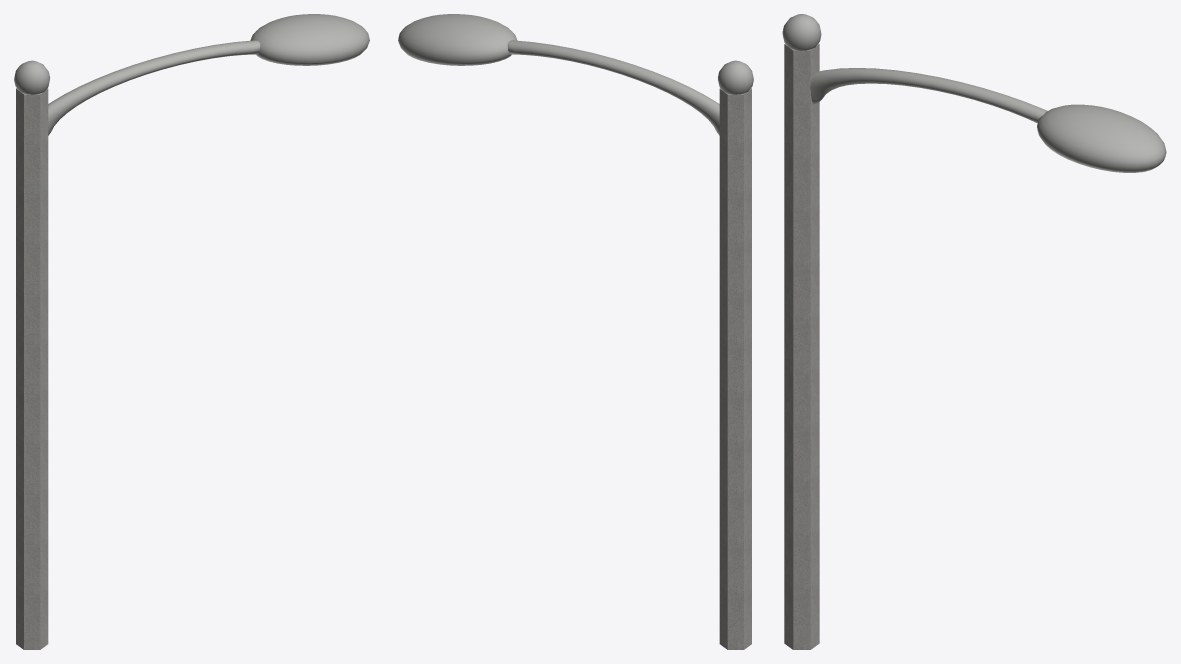
Rendered from Lampara1.FBX.
3 views of the same model, side by side, from view 1: azimuth 30°, elevation 25°; view 2: azimuth 150°, elevation 25°; view 3: azimuth 330°, elevation 25° (orthographic). The views are drawn at different scales.
Visible parts, largest first — view 1: Sphere_Sphere_001; view 2: Sphere_Sphere_001; view 3: Sphere_Sphere_001.
Part boxes in pixels (x1,y1,x2,y2): Sphere_Sphere_001: (14,14,369,649); Sphere_Sphere_001: (398,14,753,649); Sphere_Sphere_001: (782,14,1166,649).
Size of the model in its own units: 9.13 by 14.53 by 2.
1 material, 1 textured.
